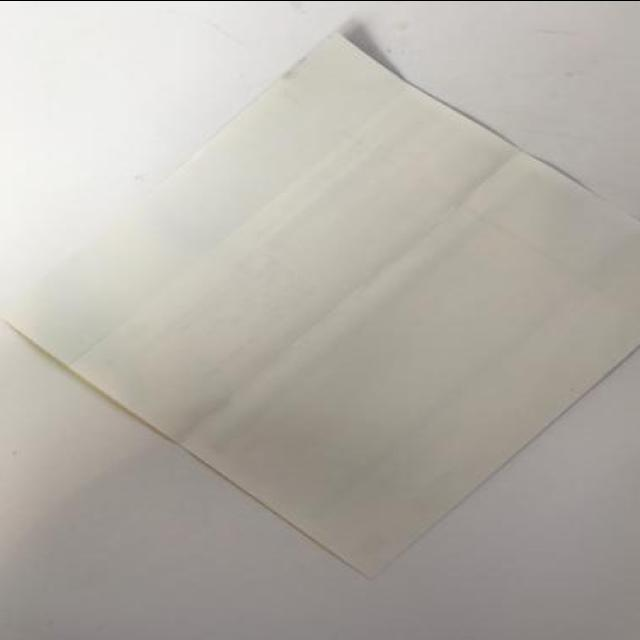kertas: (0, 30, 640, 580)
